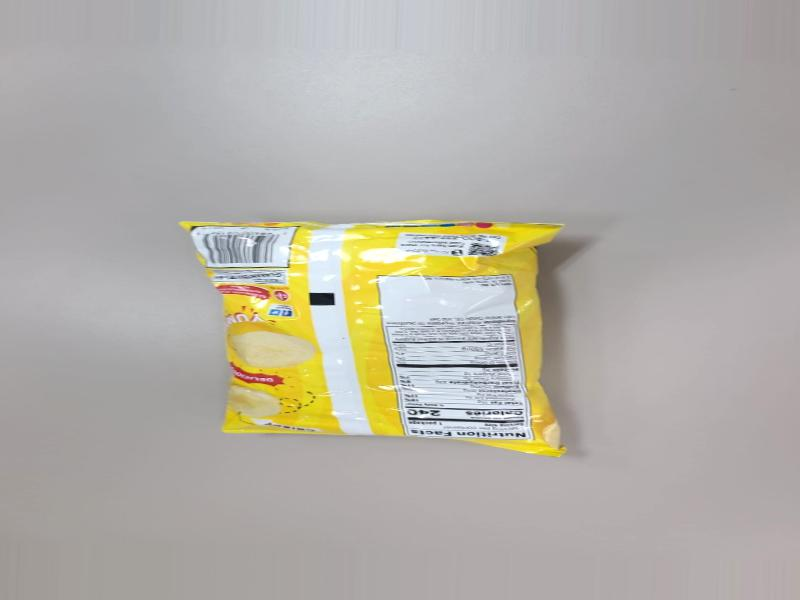lays: (175, 226, 598, 466)
